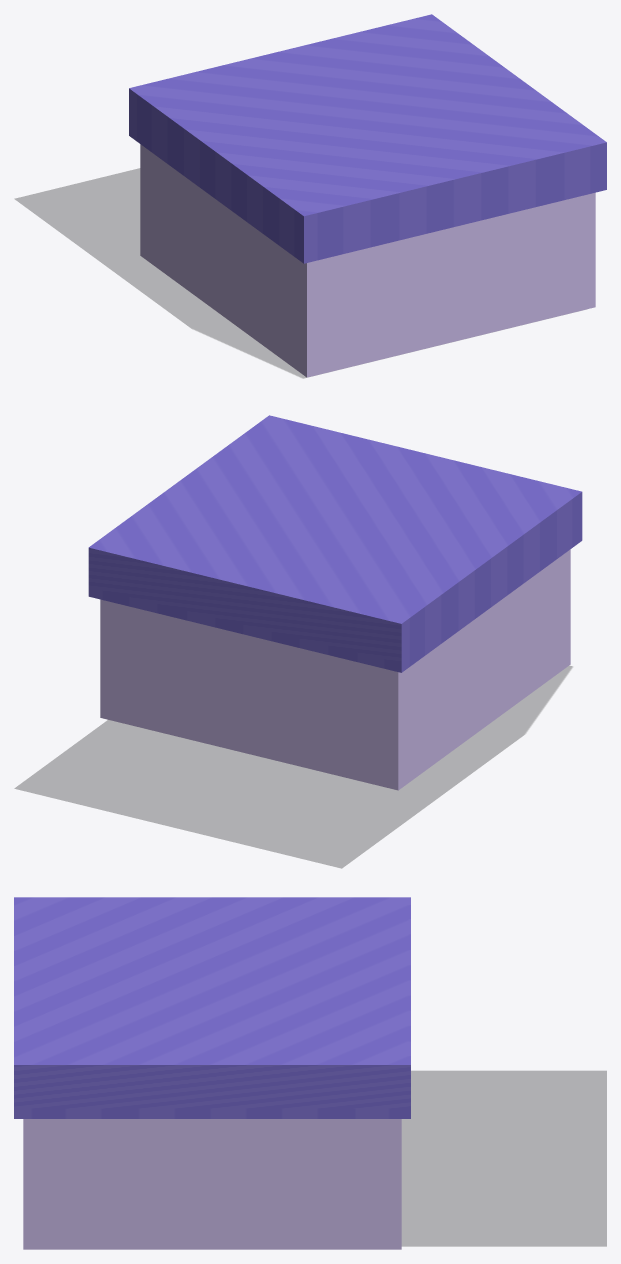
Rendered from block_22.glb.
3 views of the same model, one above another, from view 1: azimuth 30°, elevation 25°; view 2: azimuth 150°, elevation 25°; view 3: azimuth 270°, elevation 25° (orthographic). The views are drawn at different scales.
Visible parts, largest first — view 1: hitObj, block; view 2: hitObj, block; view 3: hitObj, block.
Part boxes in pixels (x1,y1,x2,y2): hitObj: [129, 14, 606, 377]; block: [15, 168, 306, 378]; hitObj: [88, 415, 582, 790]; block: [15, 666, 572, 868]; hitObj: [14, 897, 410, 1249]; block: [402, 1071, 606, 1246].
Bounding box in the file's own units: 11.49 × 5.52 × 15.68.
3 materials, 2 textured.
